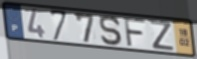4: (26, 7, 46, 40)
7: (73, 12, 97, 44), (50, 8, 69, 42)
F: (123, 16, 148, 49)
S: (99, 14, 125, 47)
Z: (149, 20, 175, 52)
